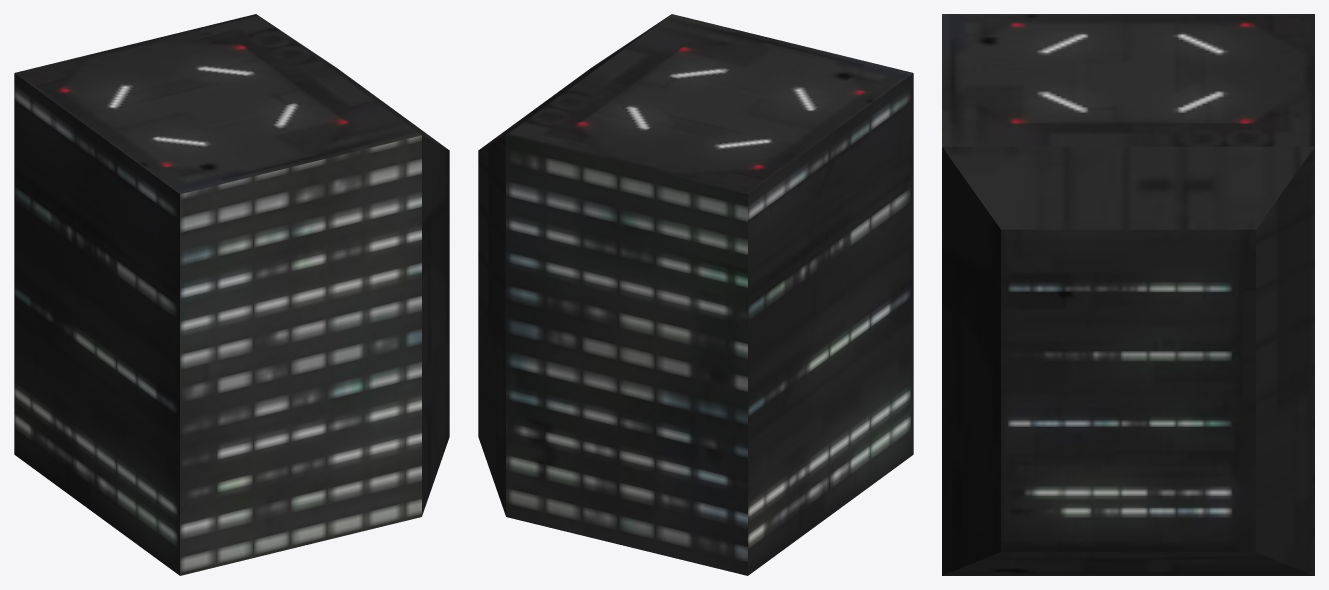
The model's file is scifi_building_11.obj.
The picture shows the model from 3 angles, left to right: view 1: azimuth 30°, elevation 25°; view 2: azimuth 150°, elevation 25°; view 3: azimuth 270°, elevation 25°; orthographic projection. The views are drawn at different scales.
Visible parts, largest first — view 1: building_11; view 2: building_11; view 3: building_11.
Part boxes in pixels (x1,y1,x2,y2): building_11: (14, 14, 449, 575); building_11: (478, 14, 913, 575); building_11: (942, 14, 1314, 575).
Bounding box in the file's own units: 38.91 × 48 × 37.78.
Materials: 1 (1 with a texture image).
